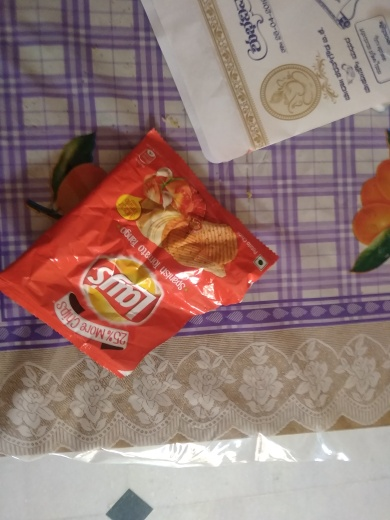lays: (6, 121, 285, 386)
